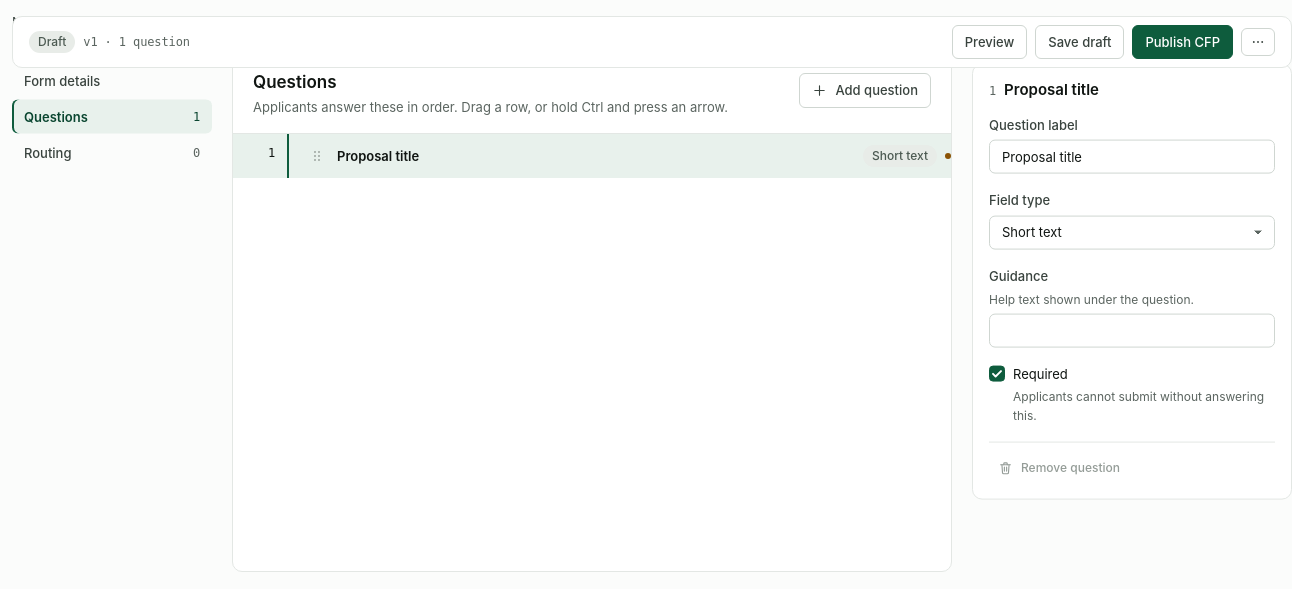
Scenario: publishing what is on screen › saves an unsaved edit before promoting it, so the live form is the one being looked at
This screenshot has width=1292, height=589.
Click the button "Form details".
click(112, 81)  # box [12,64,212,98]
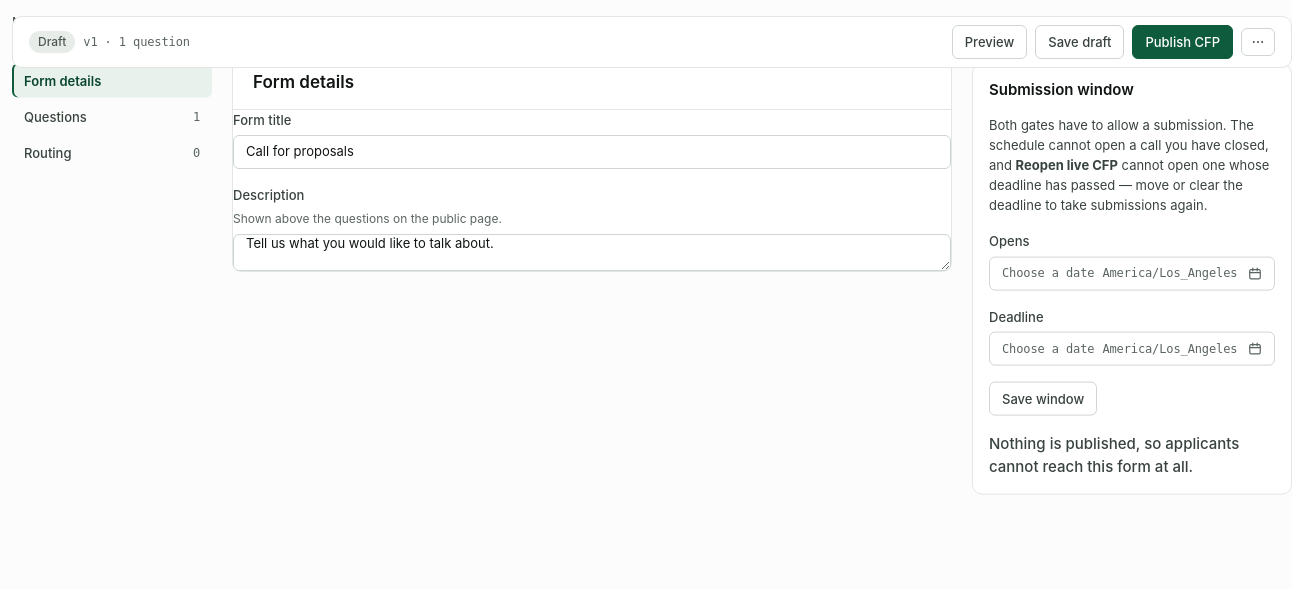
Replace the text in the field labelled "Form title" with "Call for talks" at (592, 152), box [233,135,951,169]
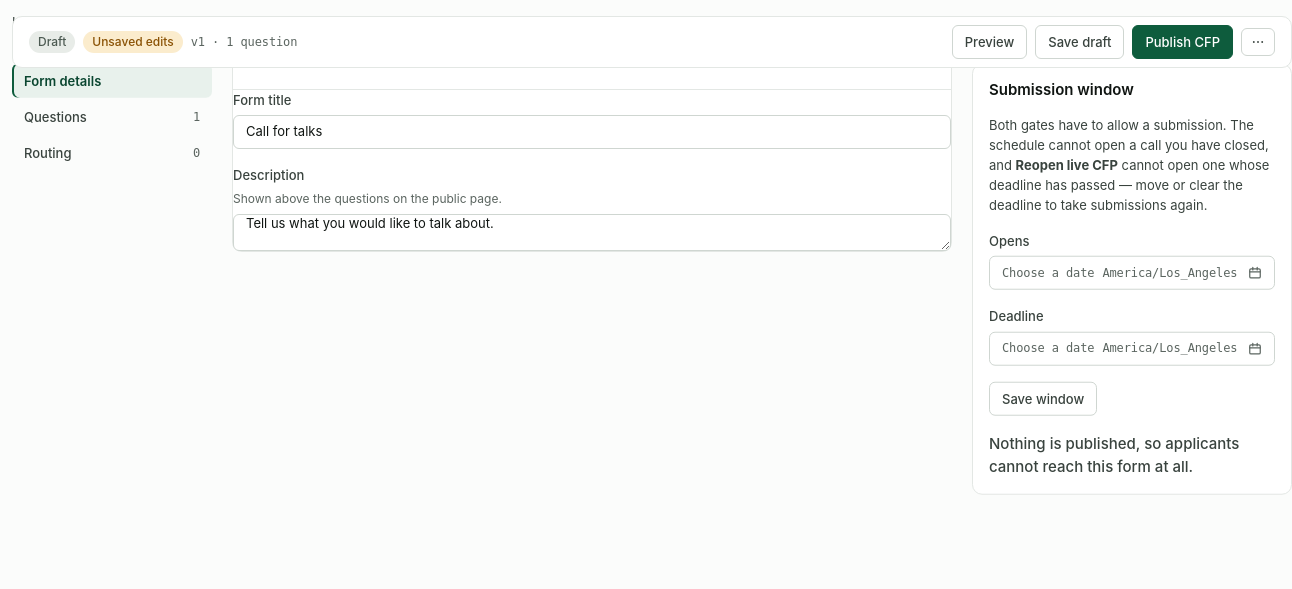
Click the button "Publish CFP".
click(1183, 42)  # box [1132,25,1233,59]
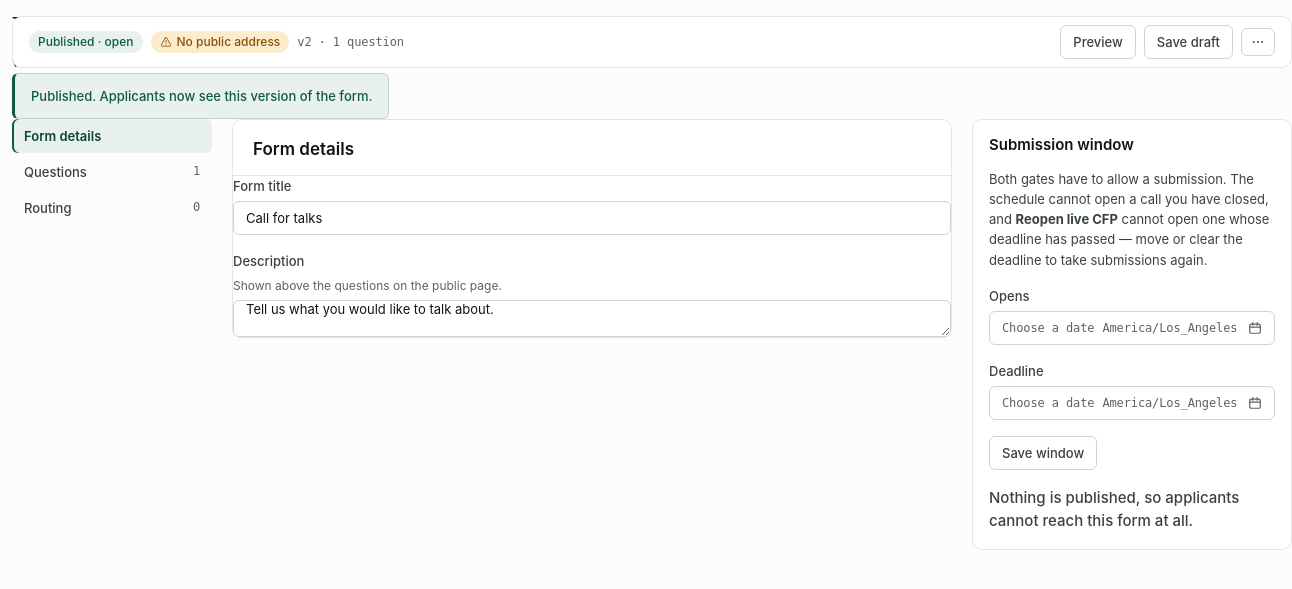
Expected: the text "Published. Applicants now see this version of the form." is shown, [31,86,372,106]
